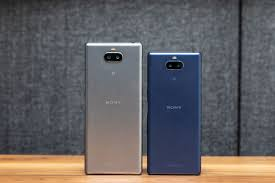sony: (84, 37, 142, 174), (144, 51, 203, 176)
